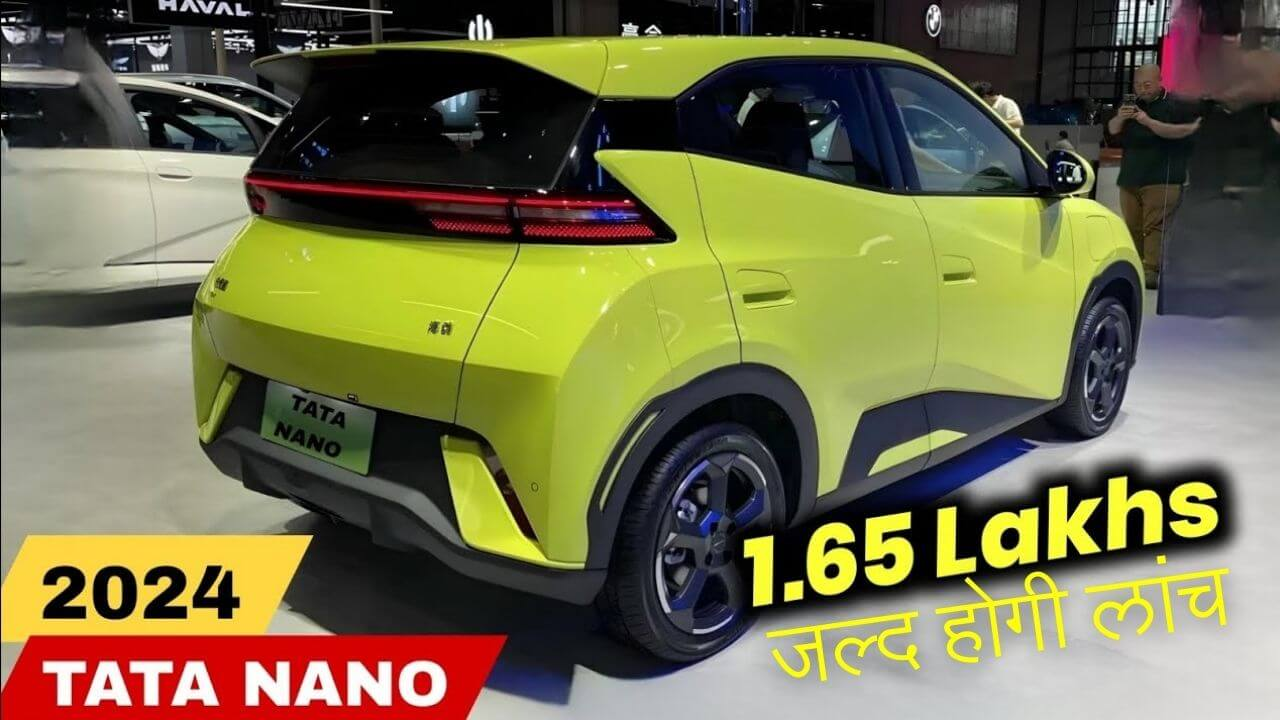Nano: (185, 33, 1148, 669)
